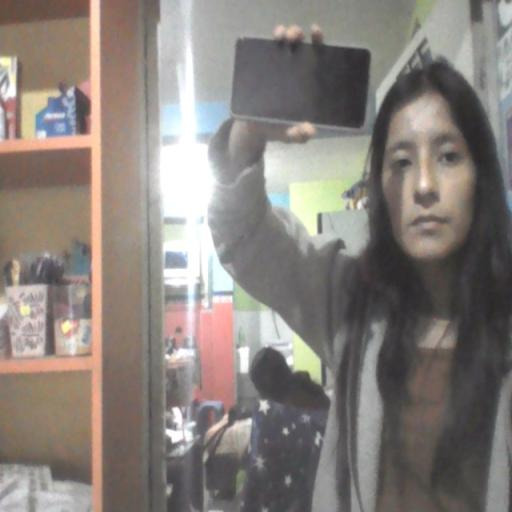phone: (228, 22, 375, 134)
